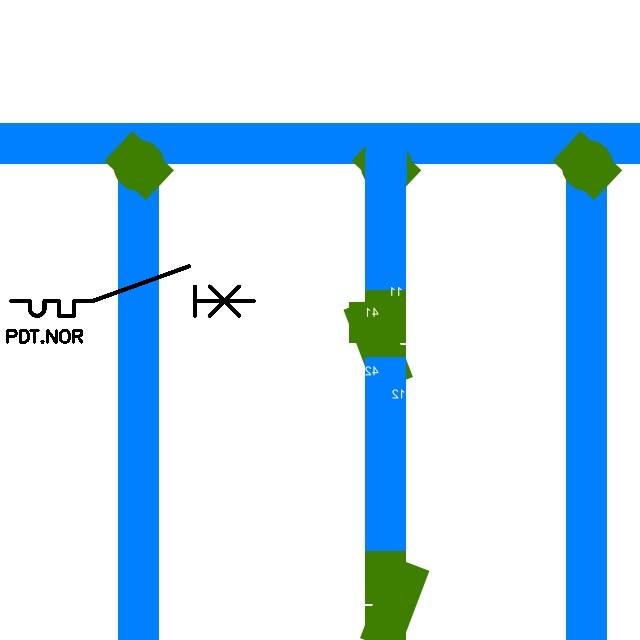interruptor_termomagnetico: (5, 260, 260, 322)
